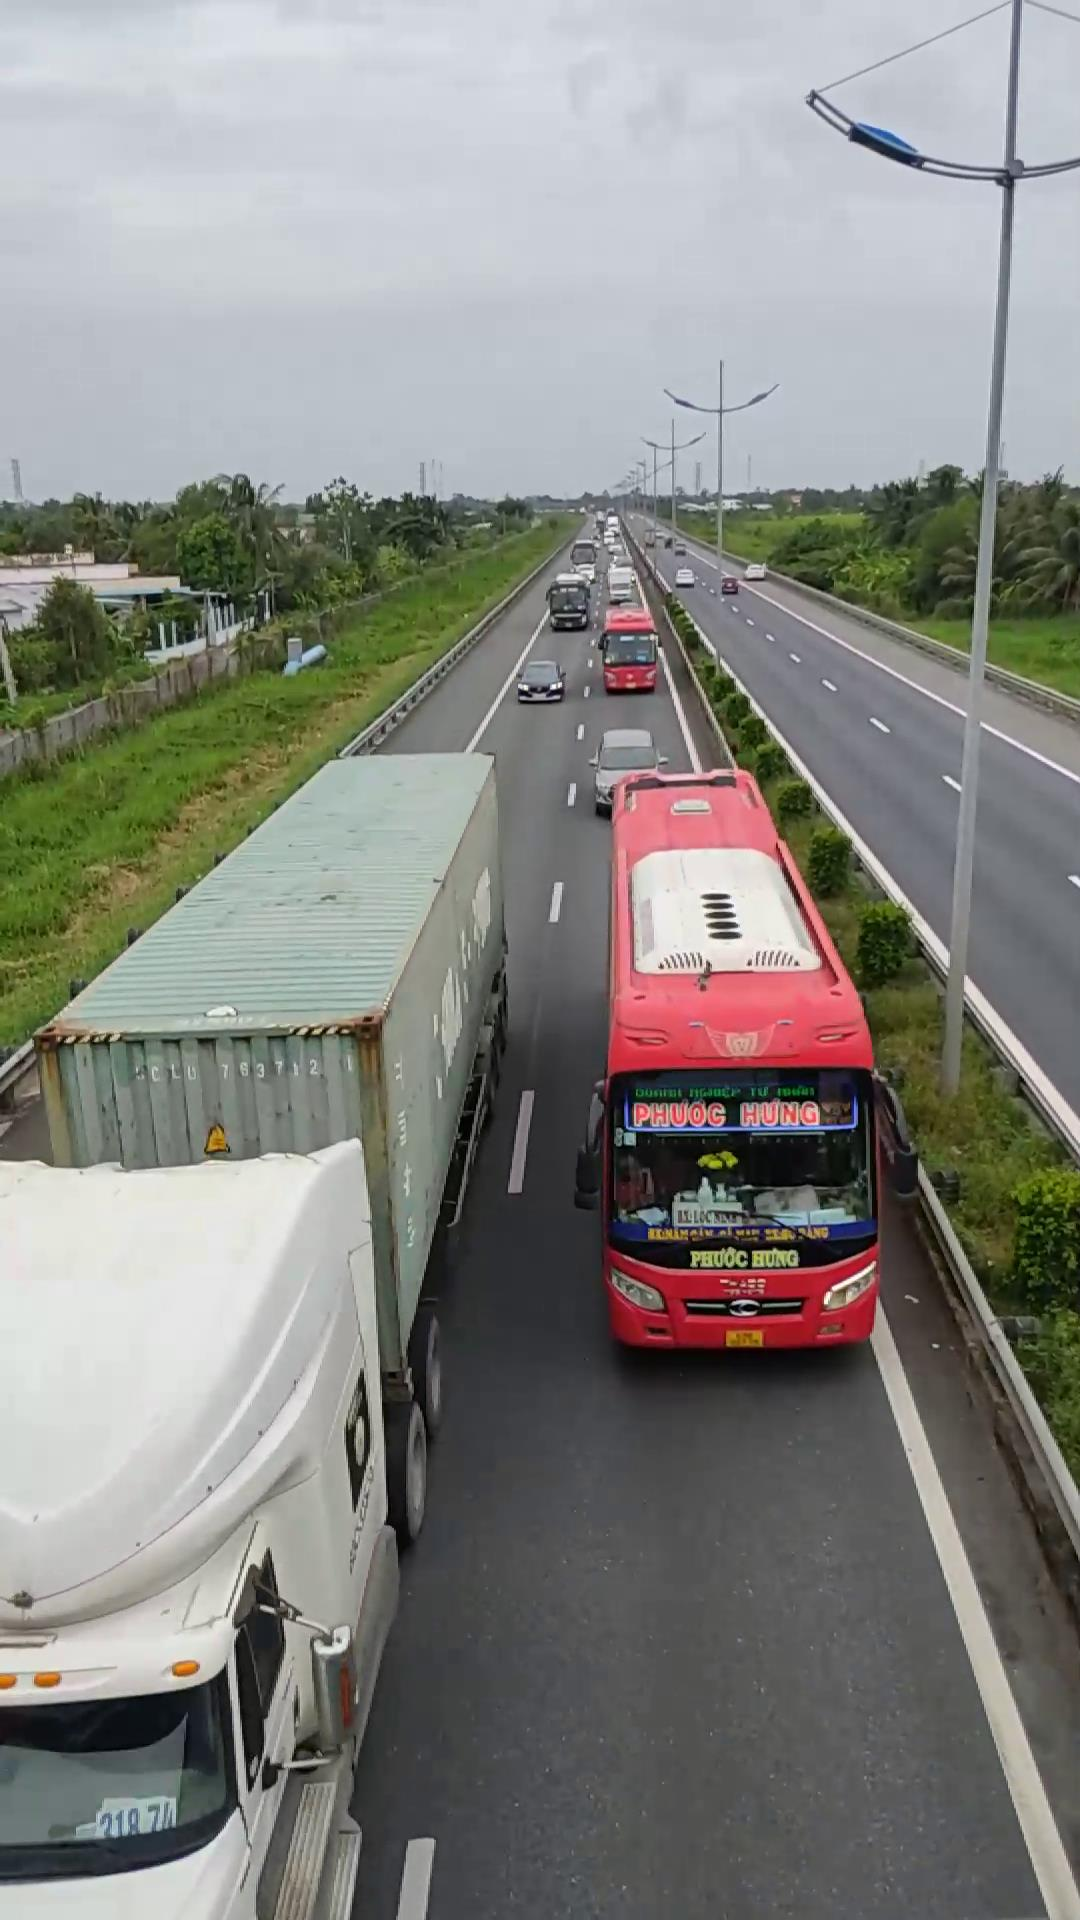bus: (589, 760, 891, 1353)
container: (0, 738, 506, 1912)
